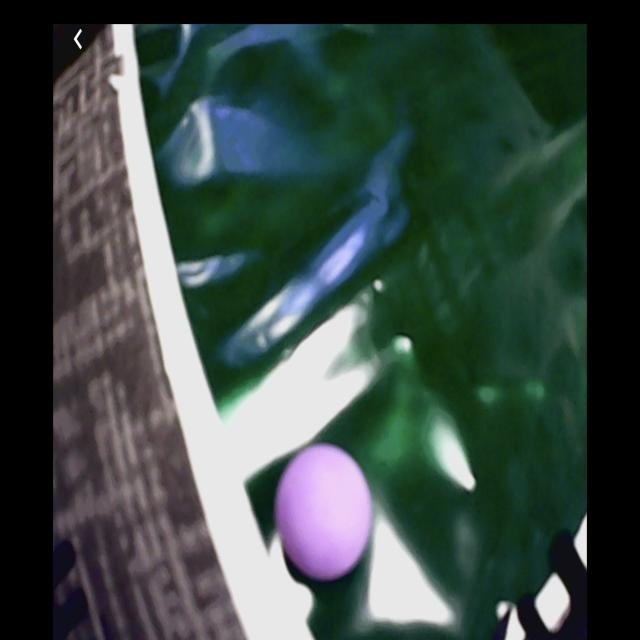ball: (277, 445, 372, 581)
